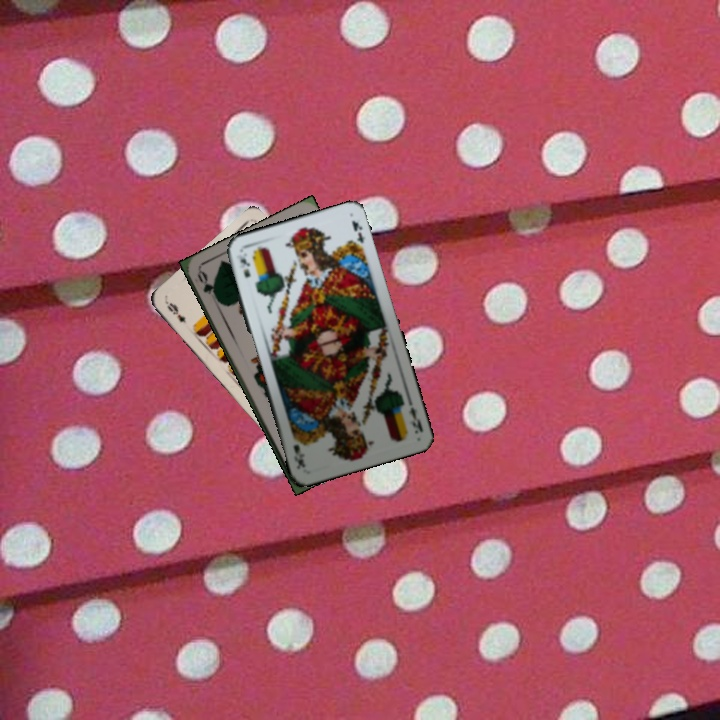E9: (162, 297, 188, 325)
EK: (404, 403, 426, 435), (235, 253, 253, 280)
GO: (193, 267, 223, 304)
